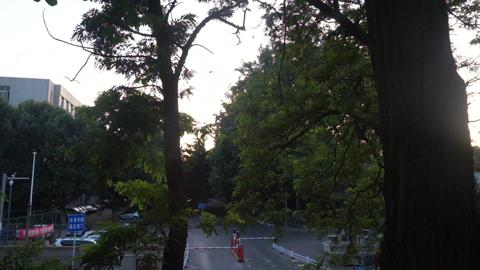UAV: (209, 71, 213, 73)
